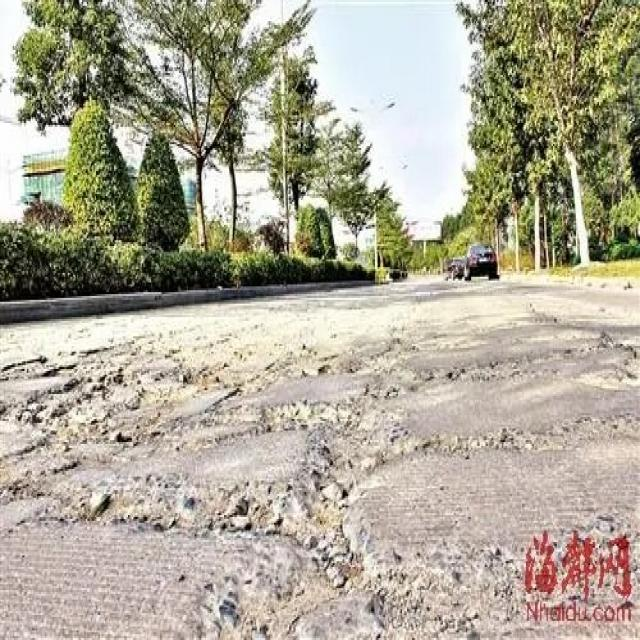Pothole: (12, 348, 636, 603)
